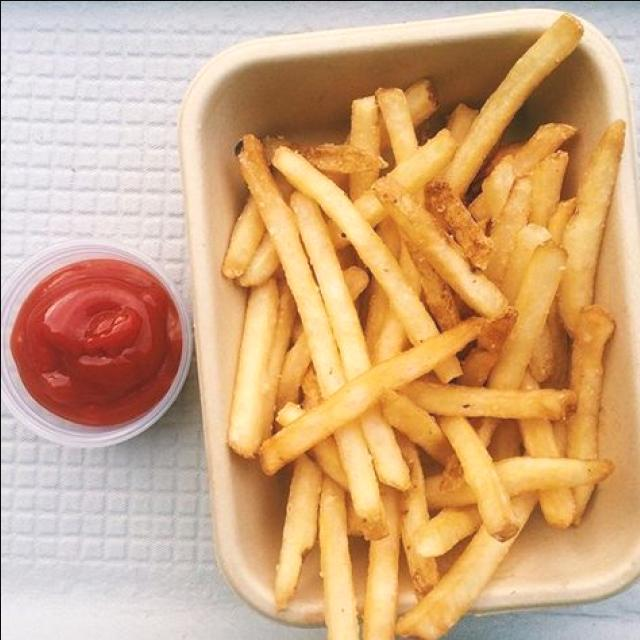kentang goreng: (219, 14, 628, 640)
